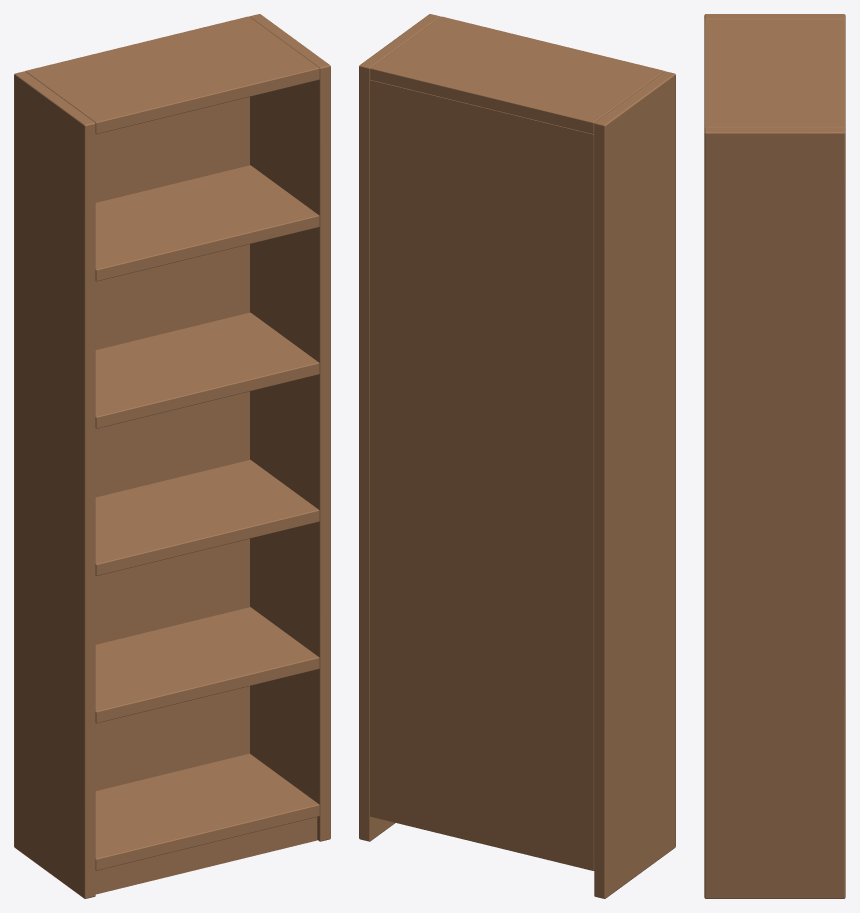
Rendered from bookshelf__w060.glb.
3 renders of one model, left to right at view 1: azimuth 30°, elevation 25°; view 2: azimuth 150°, elevation 25°; view 3: azimuth 270°, elevation 25°, orthographic.
Visible parts, largest first — view 1: bookshelf__w060; view 2: bookshelf__w060; view 3: bookshelf__w060.
Boxes of the visible parts, bbox=[...] form: bookshelf__w060: bbox=[14, 14, 330, 898]; bookshelf__w060: bbox=[359, 14, 675, 898]; bookshelf__w060: bbox=[704, 14, 845, 898].
Bounding box in the file's own units: 0.6 × 1.8 × 0.3.
